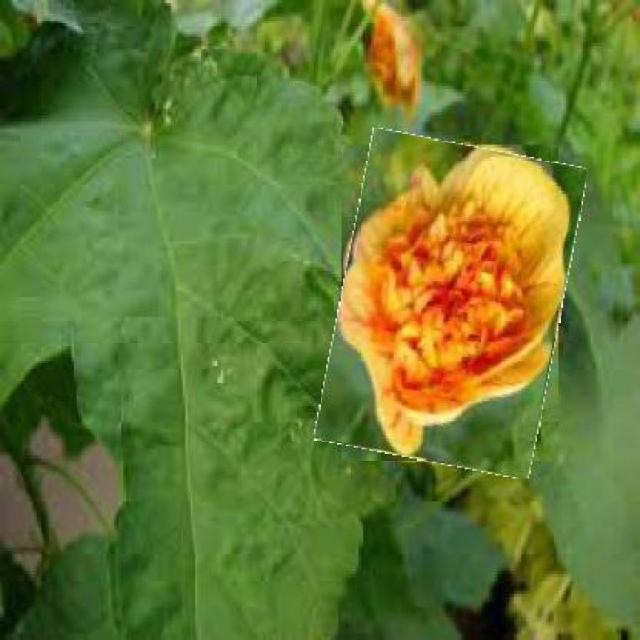Flower: (328, 136, 574, 472)
